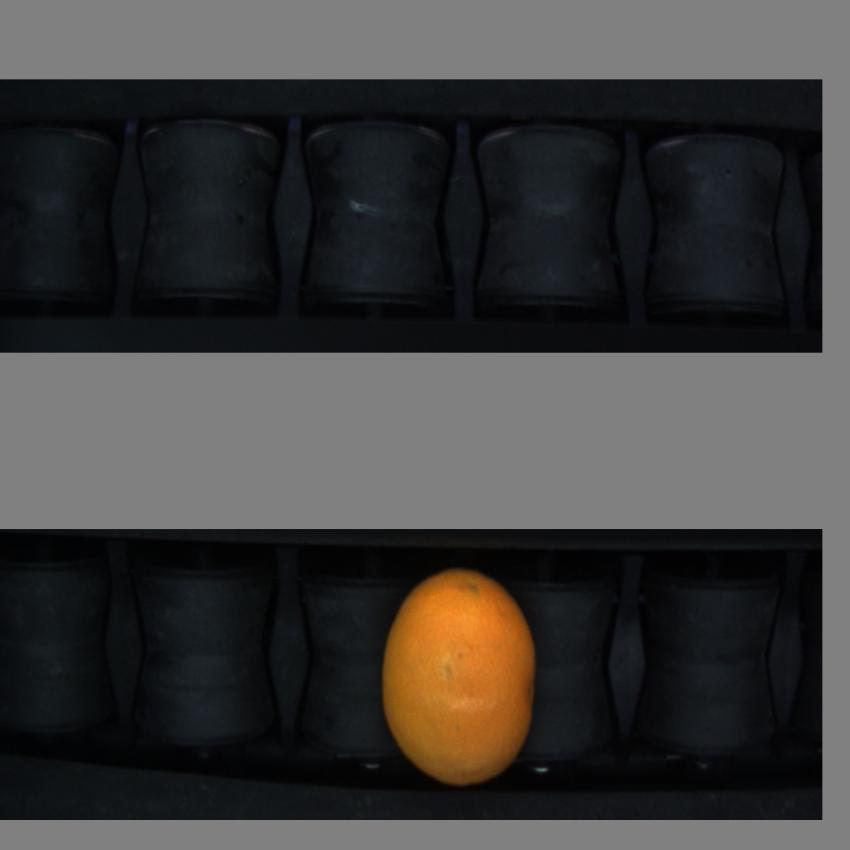Buen estado: (378, 562, 552, 801)
